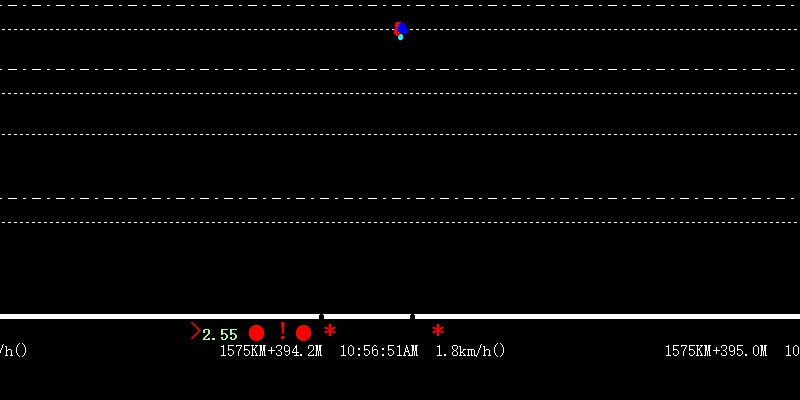circle: (247, 322, 265, 342), (295, 323, 312, 342)
face_2: (393, 18, 408, 42)
star: (432, 320, 445, 339), (322, 322, 337, 338)
